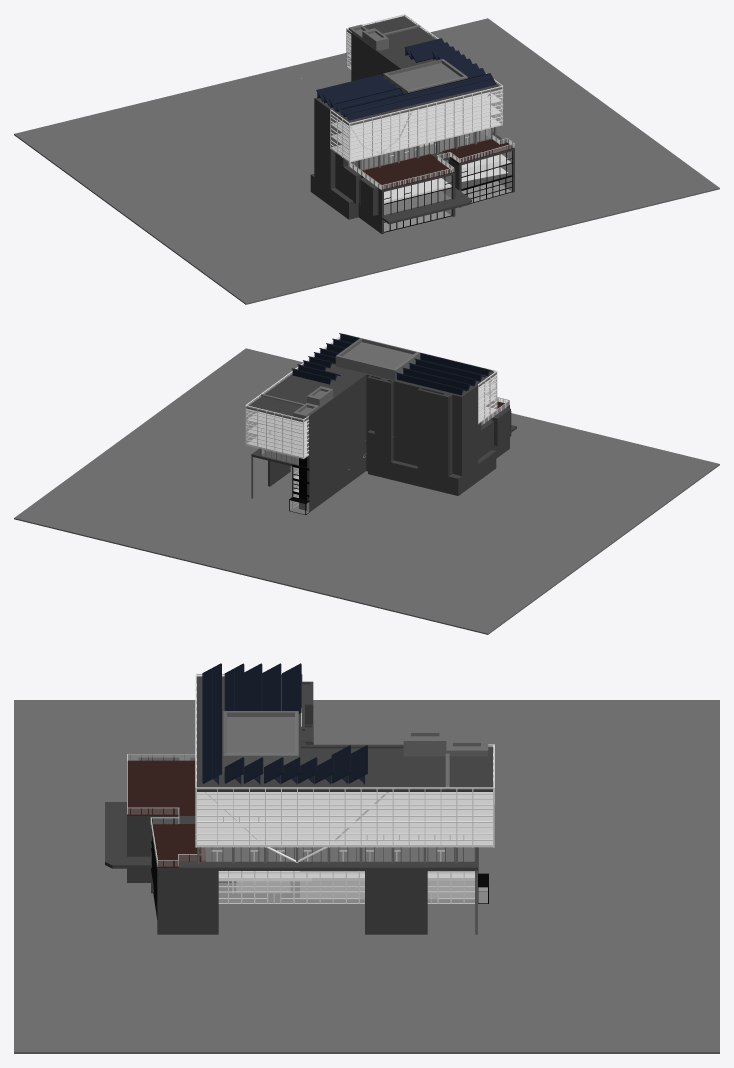
Rendered from siyakusyo1.glb.
3 views of the same model, one above another, from view 1: azimuth 30°, elevation 25°; view 2: azimuth 150°, elevation 25°; view 3: azimuth 270°, elevation 25° (orthographic). The views are drawn at different scales.
Visible parts, largest first — view 1: 床, Cube.289, Cube.244, 天井.002, 4階の床.002, Cube.260, 4階の床, 2階の床.003, 5階の床.001, Cube.277, 6階の床.002, 7階の床.001 (+13 smaller); view 2: 床, Cube.011, Cube.289, 天井.002, Cube.111, Cube.277, Cube.126, Cube.009, Cube.247, Cube.104, Cube.242, Cube.112 (+8 smaller); view 3: 床, Cube.243, Cube.289, 天井.002, 4階の床, 4階の床.002, 5階の床.001, 7階の床.001, Cube.063, 6階の床.002, Cube.087, Cube.001 (+13 smaller).
Boxes of the visible parts, x1,y1,x2,y2 form: 床: (14,18,719,304); Cube.289: (316,38,496,120); Cube.244: (350,87,501,161); 天井.002: (318,16,502,125); 4階の床.002: (362,138,514,189); Cube.260: (349,86,503,158); 4階の床: (314,129,514,192); 2階の床.003: (310,174,471,224); 5階の床.001: (331,66,501,162); Cube.277: (383,59,467,93); 6階の床.002: (331,54,501,149); 7階の床.001: (331,42,501,137); 床: (14,348,719,634); Cube.011: (307,373,381,512); Cube.289: (292,333,493,395); 天井.002: (246,338,496,421); Cube.111: (417,389,449,476); Cube.277: (335,338,420,380); Cube.126: (387,379,444,465); Cube.009: (368,453,496,495); Cube.247: (246,406,302,458); Cube.104: (461,385,478,476); Cube.242: (367,377,391,421); Cube.112: (368,418,391,462); 床: (14,700,719,1053); Cube.243: (197,792,492,847); Cube.289: (202,663,367,784); 天井.002: (196,676,493,791); 4階の床: (127,757,477,870); 4階の床.002: (127,760,205,867); 5階の床.001: (197,828,492,846); 7階の床.001: (197,708,492,809); Cube.063: (195,787,493,840); 6階の床.002: (197,810,492,827); Cube.087: (219,871,474,902); Cube.001: (365,871,427,934).
Size of the model in its own units: 161 by 34.7 by 136.
